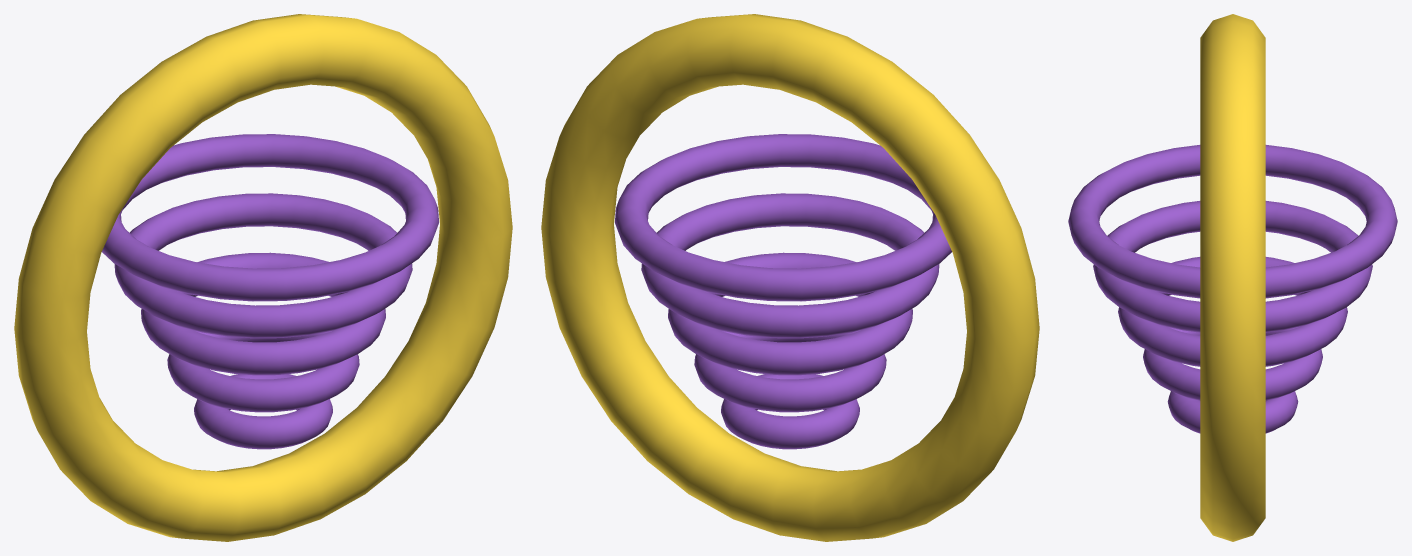
The model's file is Pickup_whirlpool.glb.
3 views of the same model, side by side, from view 1: azimuth 30°, elevation 25°; view 2: azimuth 150°, elevation 25°; view 3: azimuth 270°, elevation 25° (orthographic). The views are drawn at different scales.
Visible parts, largest first — view 1: Pickup ring.003, Whirlpool.004, Whirlpool.003, Whirlpool.002, Whirlpool.001, Whirlpool; view 2: Pickup ring.003, Whirlpool.004, Whirlpool.003, Whirlpool.002, Whirlpool.001, Whirlpool; view 3: Pickup ring.003, Whirlpool.004, Whirlpool.003, Whirlpool.002, Whirlpool.001, Whirlpool.
Boxes of the visible parts, x1,y1,x2,y2 form: Pickup ring.003: (14, 14, 512, 541); Whirlpool.004: (102, 134, 438, 301); Whirlpool.003: (114, 193, 412, 338); Whirlpool.002: (141, 252, 385, 375); Whirlpool.001: (167, 330, 359, 412); Whirlpool: (194, 374, 332, 449); Pickup ring.003: (541, 14, 1039, 541); Whirlpool.004: (615, 134, 951, 301); Whirlpool.003: (641, 193, 939, 338); Whirlpool.002: (668, 252, 912, 375); Whirlpool.001: (694, 330, 886, 412); Whirlpool: (721, 374, 859, 449); Pickup ring.003: (1200, 14, 1265, 541); Whirlpool.004: (1068, 145, 1397, 298); Whirlpool.003: (1093, 201, 1372, 332); Whirlpool.002: (1118, 257, 1347, 366); Whirlpool.001: (1143, 326, 1322, 400); Whirlpool: (1167, 391, 1298, 433).
Bounding box in the file's own units: 0.85 × 0.85 × 0.53.
